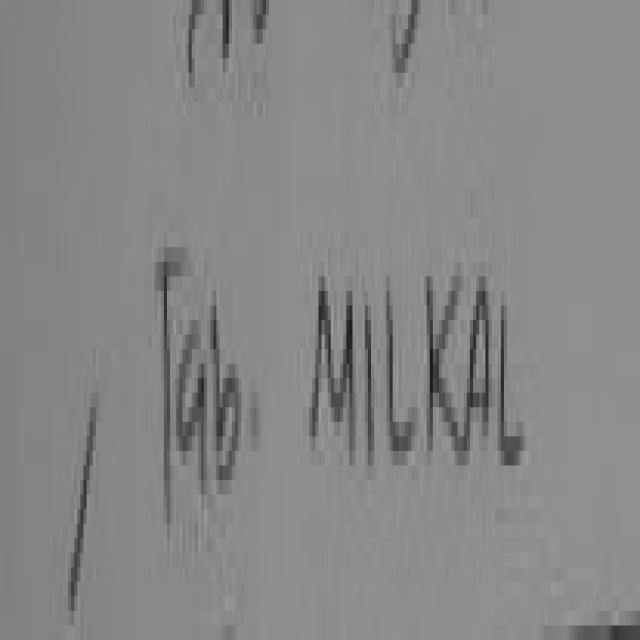A: (467, 276, 492, 444)
I: (365, 305, 377, 458)
K: (427, 276, 467, 465)
L: (500, 289, 526, 465), (390, 291, 417, 444)
M: (312, 276, 356, 458)
T: (158, 247, 184, 524)
a: (179, 335, 207, 487)
b: (213, 305, 241, 480)
